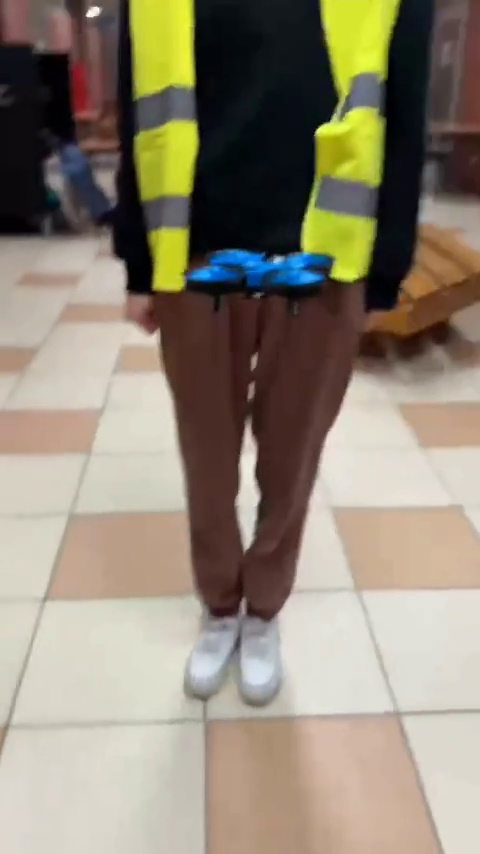drone: (179, 238, 342, 315)
vest: (113, 63, 420, 722)
